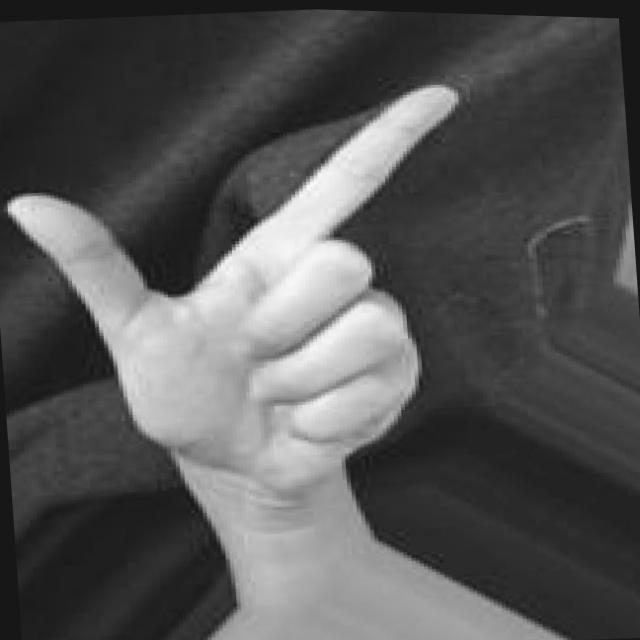L: (0, 63, 531, 519)
